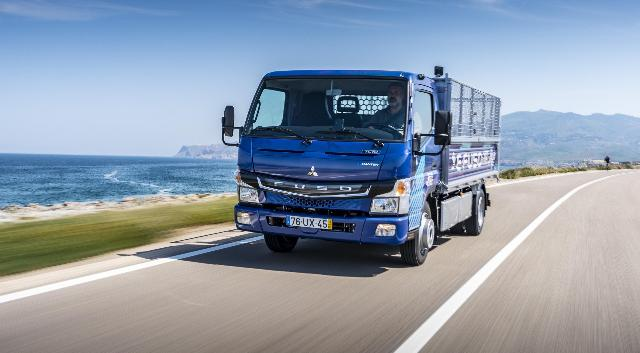truck: (204, 49, 511, 261)
